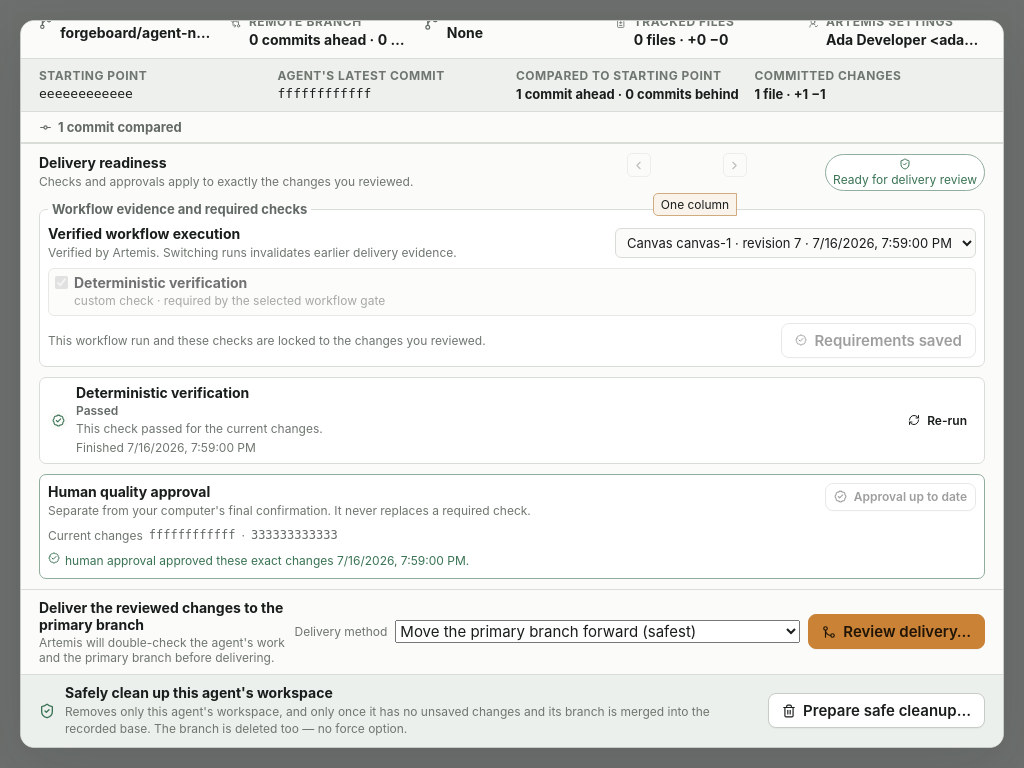
GitReviewDialog › reviews an exact opaque agent delivery before invoking native confirmation
The width and height of the screenshot is (1024, 768).
(page scrolled)
expect the text "Deliver the reviewed changes to the primary branch" is shown: met, box [39,599,286,633]
Click the button "Review delivery…".
click(897, 632)  # box [808,614,985,649]
(page scrolled)
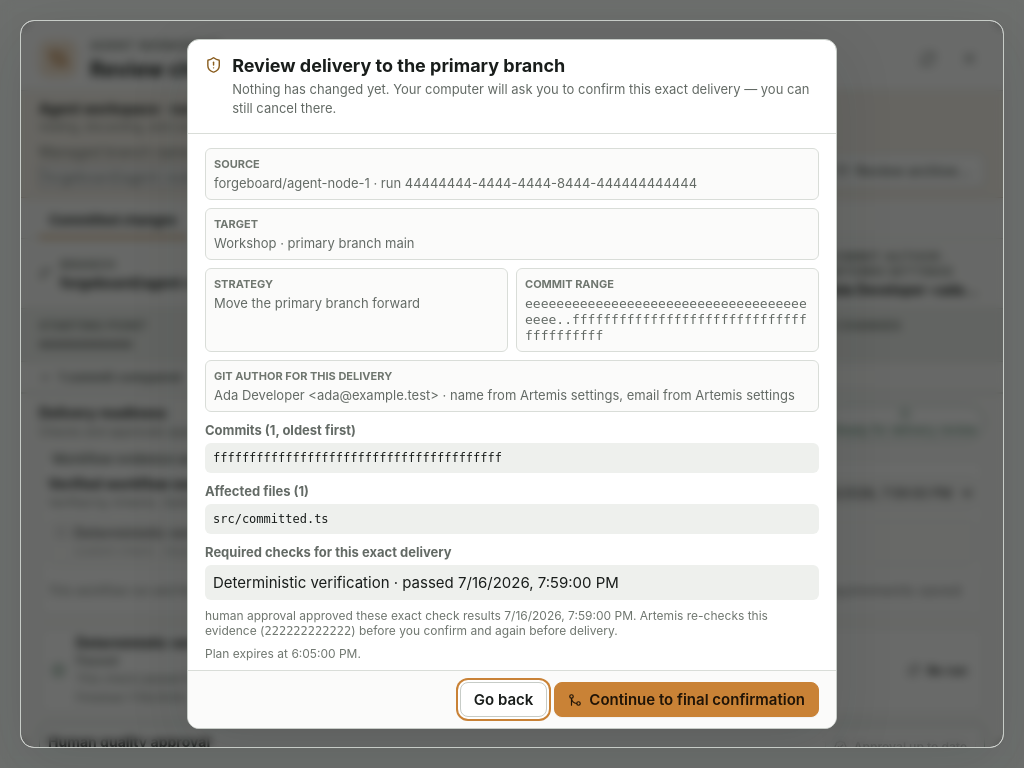
expect the dialog "Review delivery to the primary branch" shows "forgeboard/agent-node-1": met, box [214,175,370,191]
expect the dialog "Review delivery to the primary branch" shows "name from Artemis settings": met, box [187,39,837,729]
Press Tab
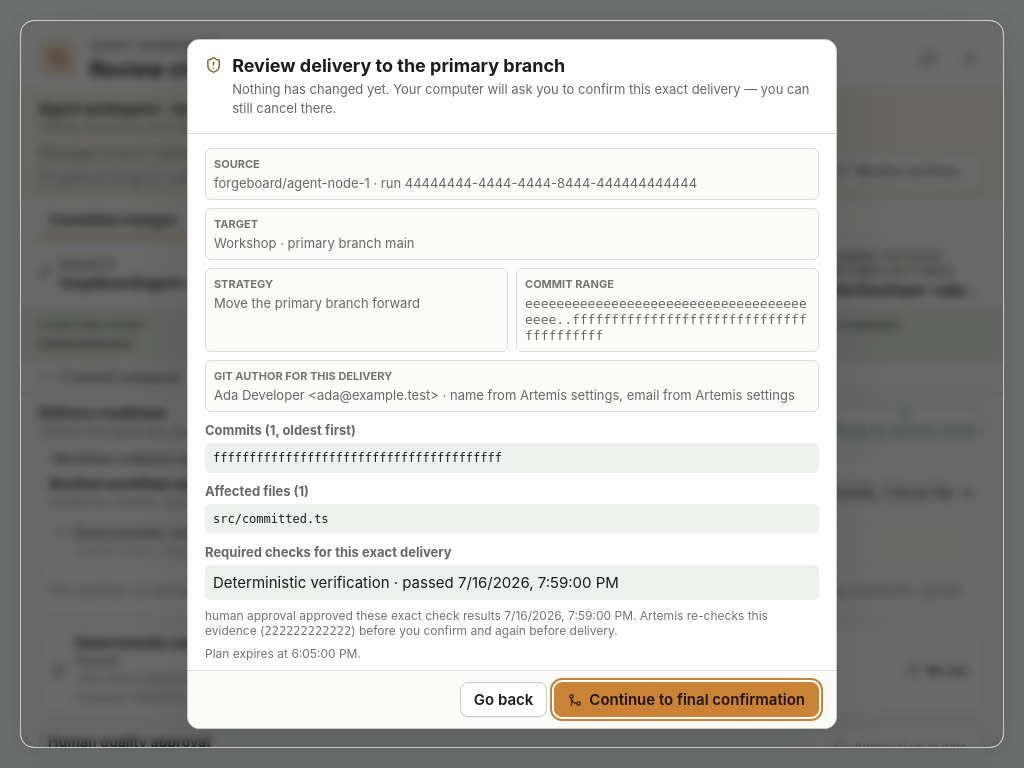
Press Tab
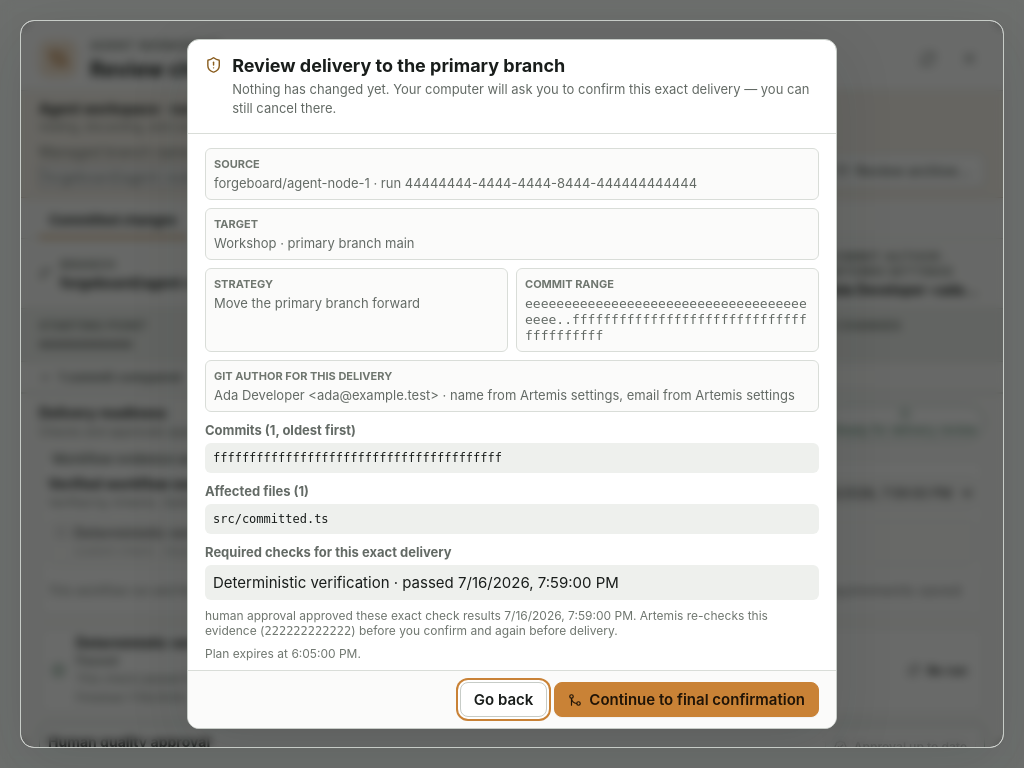
Click the button "Continue to final confirmation".
click(687, 700)  # box [554,682,819,717]
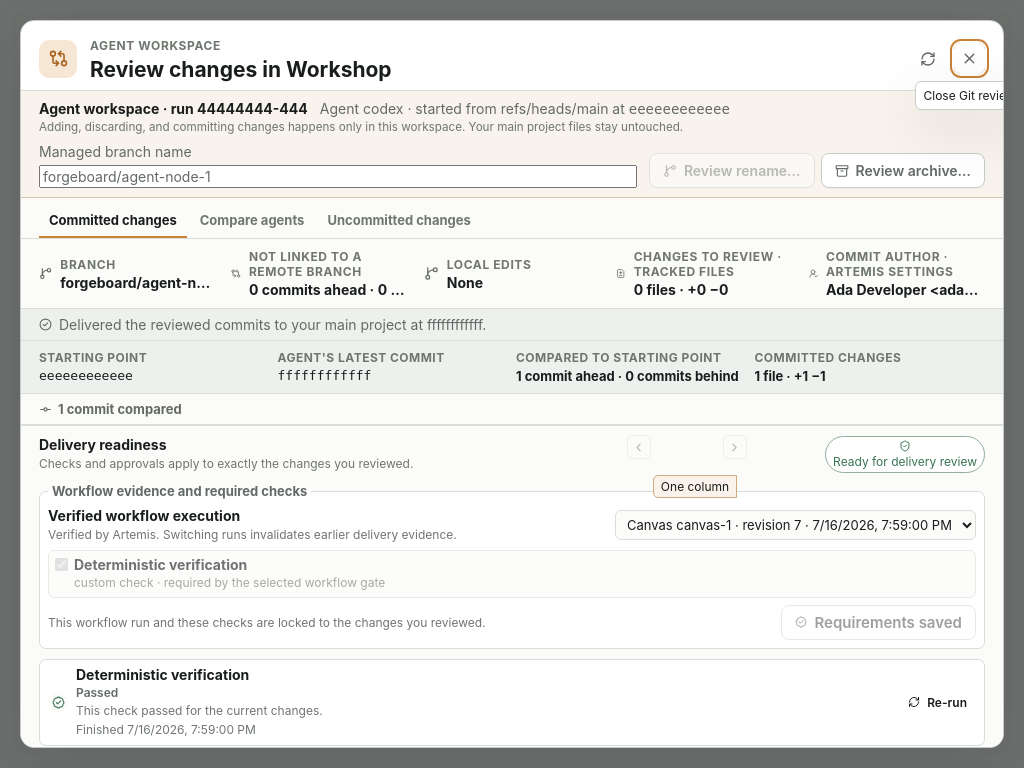
expect the text "Delivered the reviewed commits" is shown: met, box [59,316,486,333]
